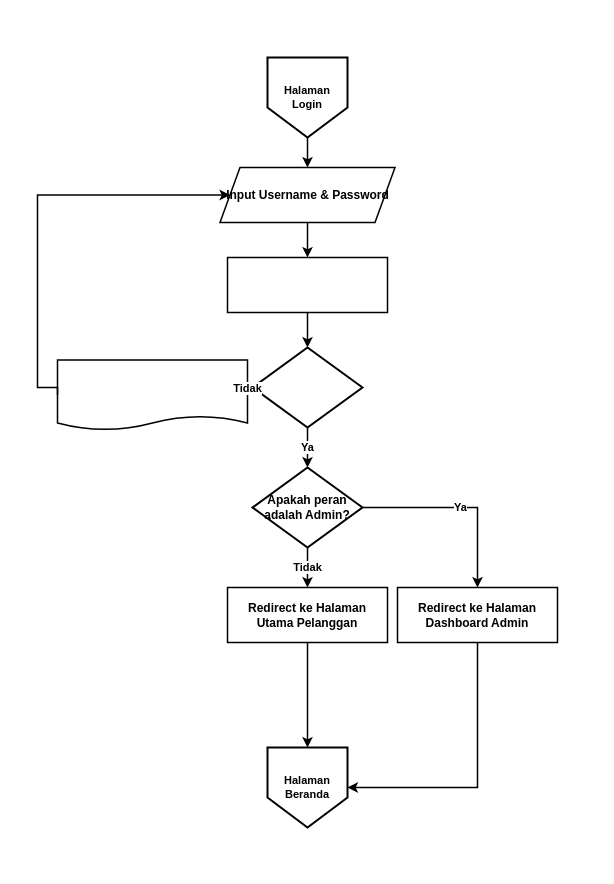
Image size: 614x884. Some labels were removed from this diagram. The centre of each missing label's shape, as x and y in pixels:
"Akun ditemukan & Match?" goes at point 307,387.
"Query username & verify password hash di DB" goes at point 307,284.
"Tampilkan error username/password salah" goes at point 152,394.
